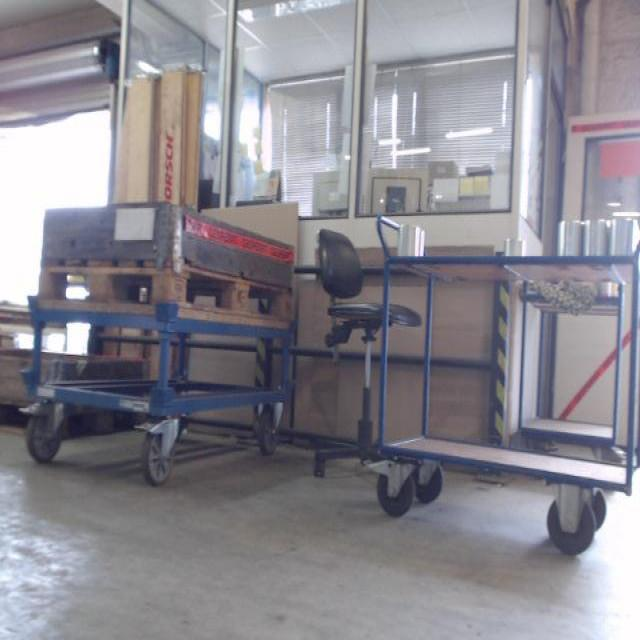pallet: (40, 246, 296, 330), (0, 396, 147, 440)
